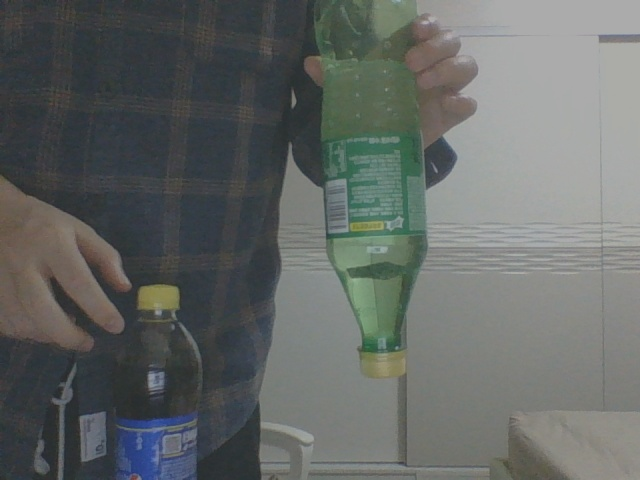Cola: (108, 281, 199, 476)
Sprite: (314, 2, 430, 379)
